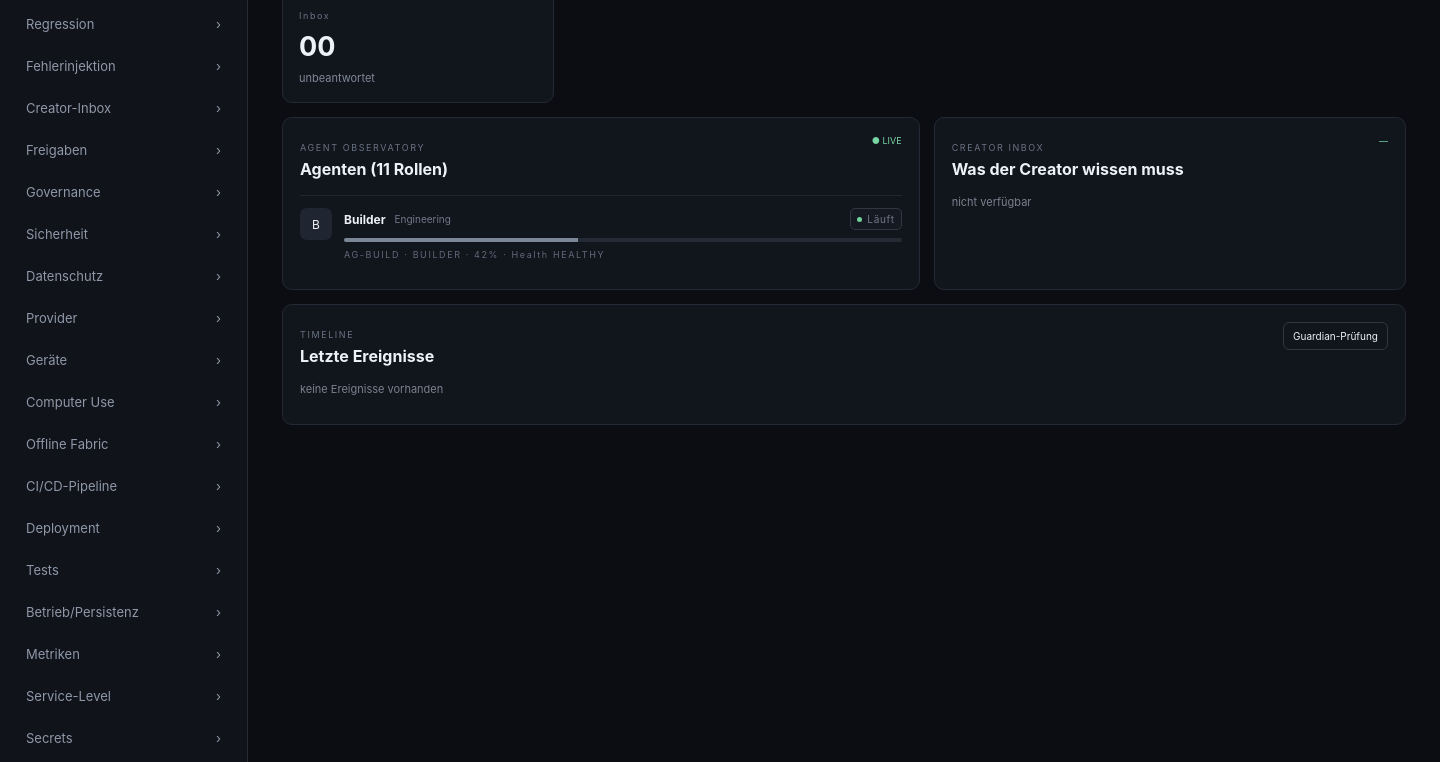
Test: Control Center Oberfläche › zeigt Geräte als nicht autorisiert (Discovery ≠ Autorisierung)
(page scrolled)
Click the button "Geräte ›": click(124, 360) [14,341,233,379]
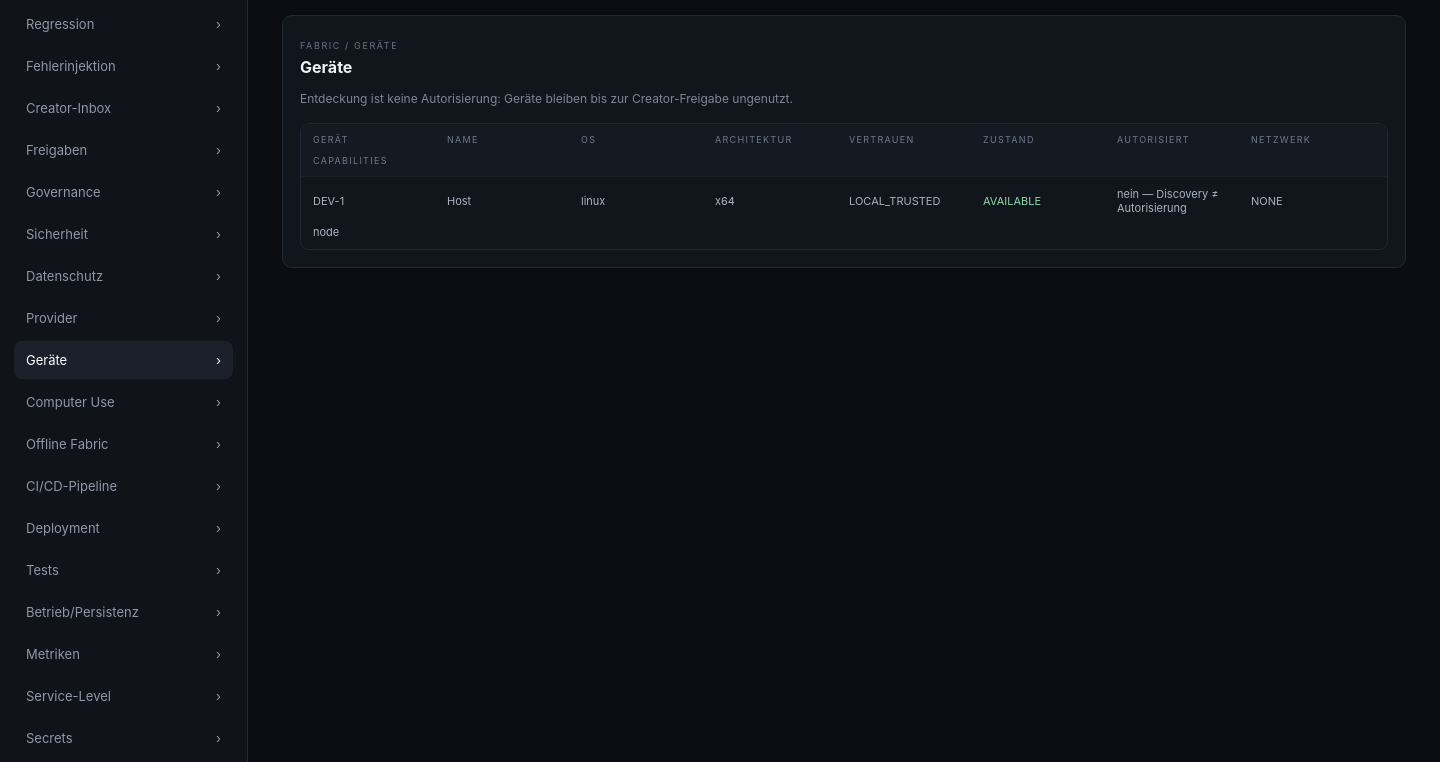
Expected: the text "DEV-1" is shown, [313,194,344,208]
Expected: the text "Discovery ≠ Autorisierung" is shown, [1117,187,1219,215]
Expected: the text "Autorisiert" is shown, [1117,134,1190,145]
